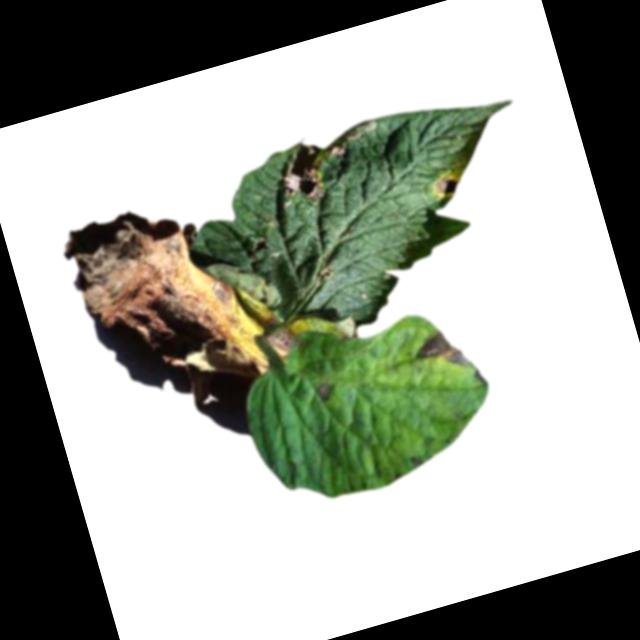Early_blight: (52, 176, 301, 417), (273, 137, 339, 209), (404, 323, 472, 383), (428, 171, 461, 203), (313, 381, 335, 406)
